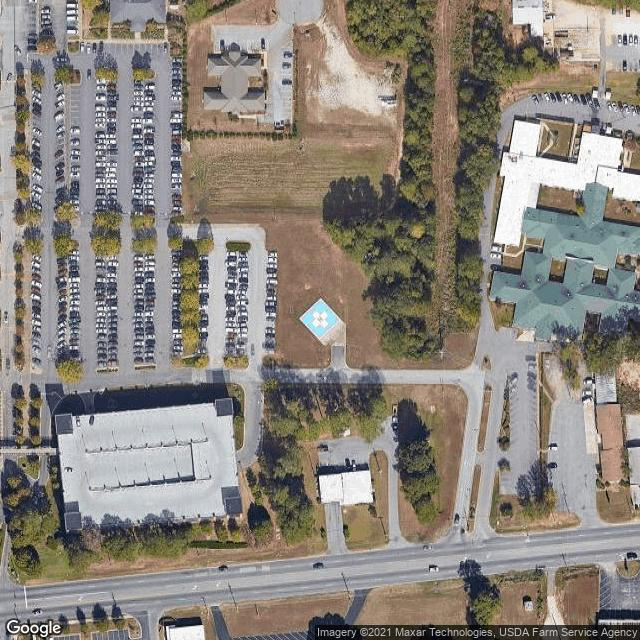Helipad: (293, 297, 344, 337)
